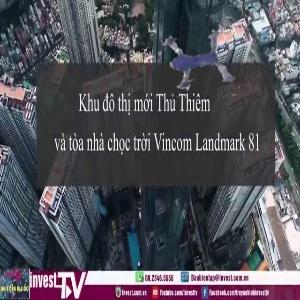drone: (150, 16, 244, 110)
